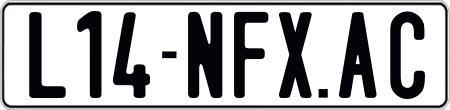1: (76, 10, 100, 99)
4: (112, 12, 149, 104)
A: (337, 9, 380, 95)
C: (387, 11, 425, 101)
F: (231, 11, 265, 101)
L: (27, 12, 66, 98)
N: (188, 9, 228, 99)
X: (278, 12, 317, 103)
